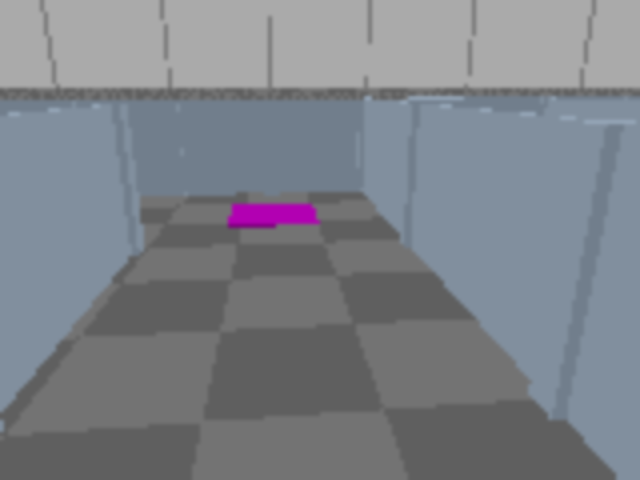goal_zone: (228, 202, 320, 227)
